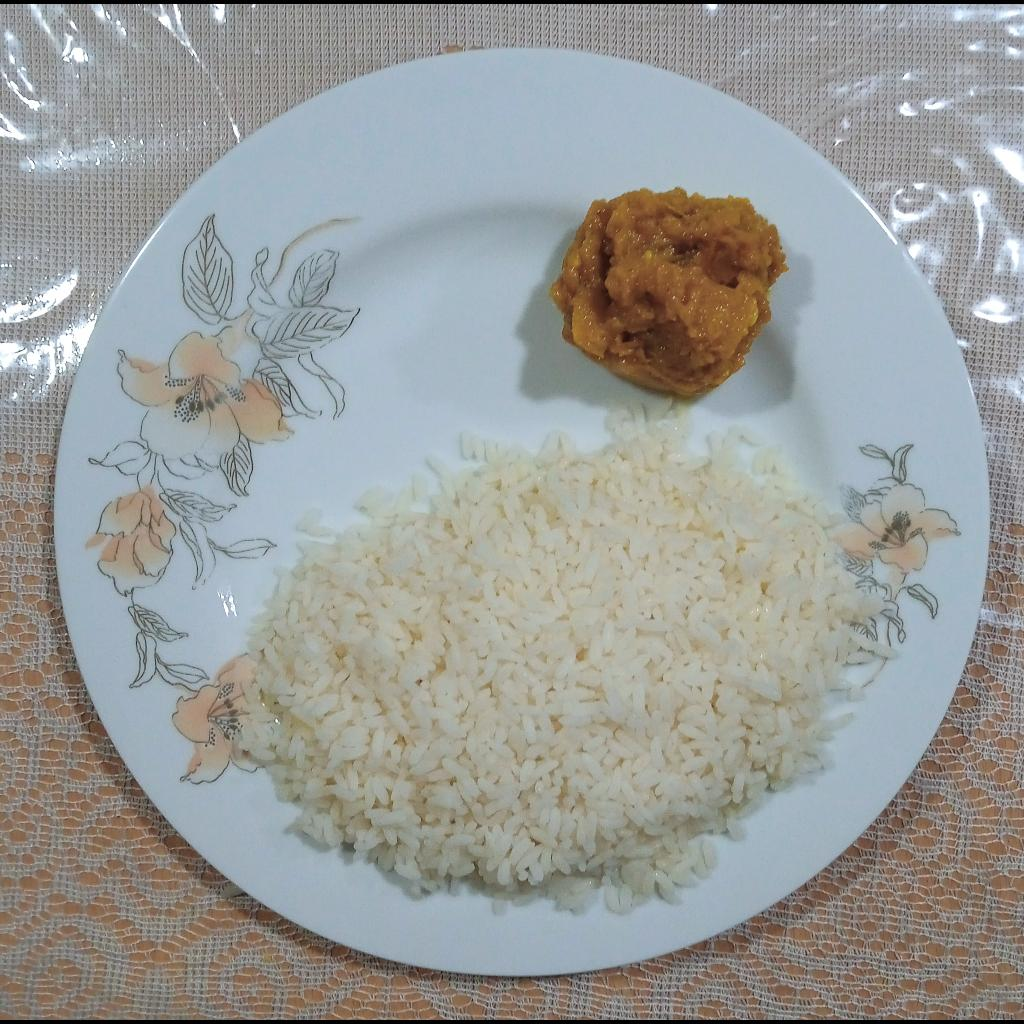kumra-vaji: (548, 186, 790, 397)
rice: (238, 403, 901, 916)
